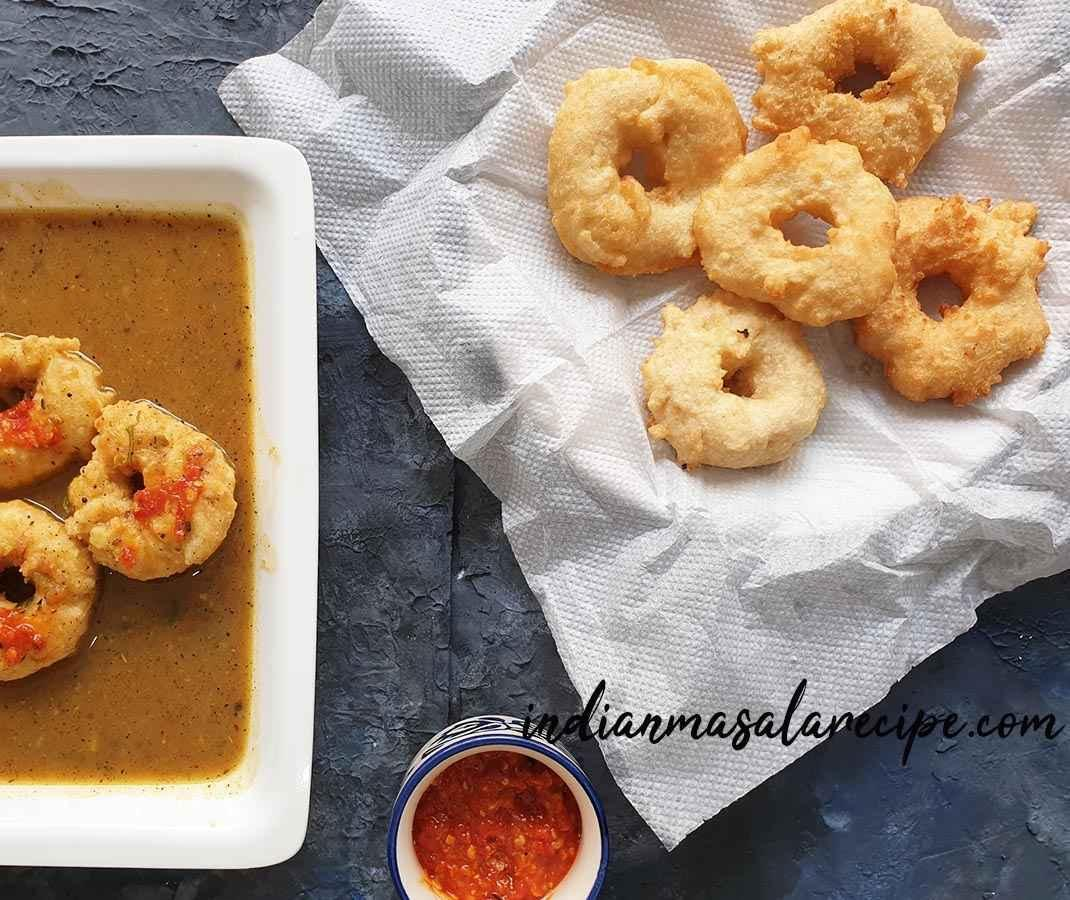mvada: (584, 91, 1002, 386)
